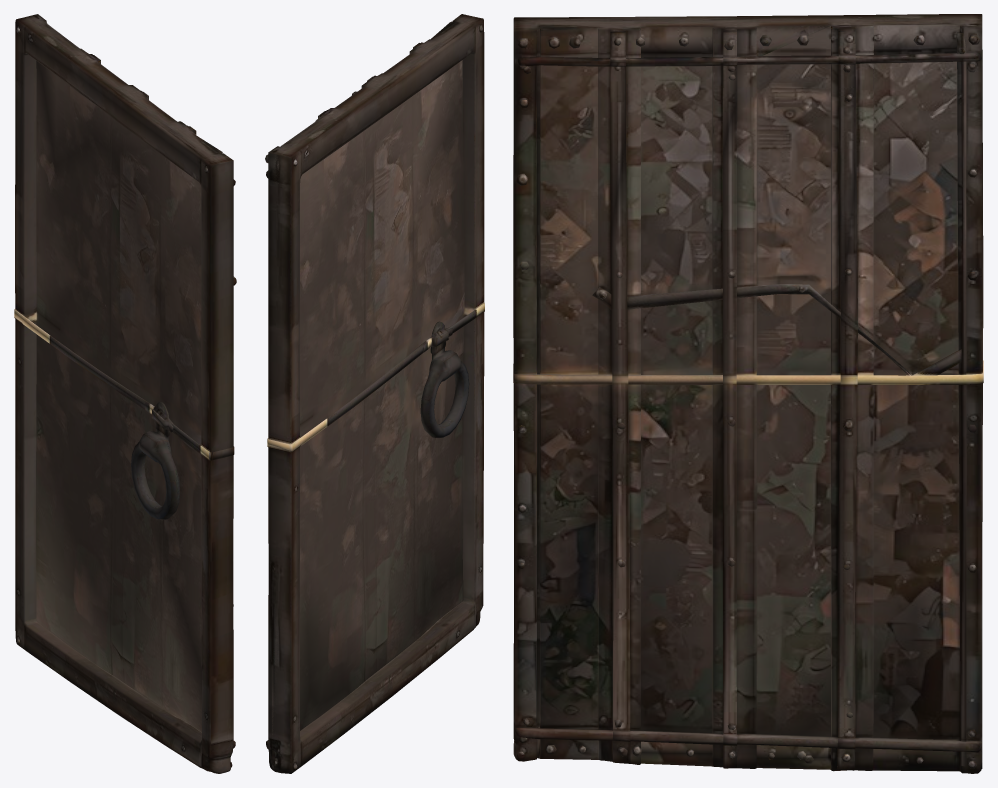
The model's file is q3d-48-panel.glb.
3 renders of one model, left to right at view 1: azimuth 30°, elevation 25°; view 2: azimuth 150°, elevation 25°; view 3: azimuth 270°, elevation 25°, orthographic. The views are drawn at different scales.
Bounding box in the file's own units: 0.0786 × 0.9995 × 0.5688.
1 material, 1 textured.
